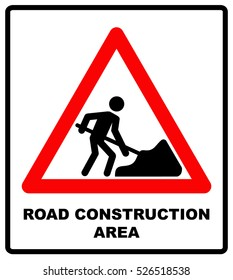bike: (21, 27, 212, 193)
